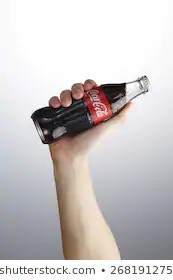coke-glass-bottle: (30, 68, 154, 150)
